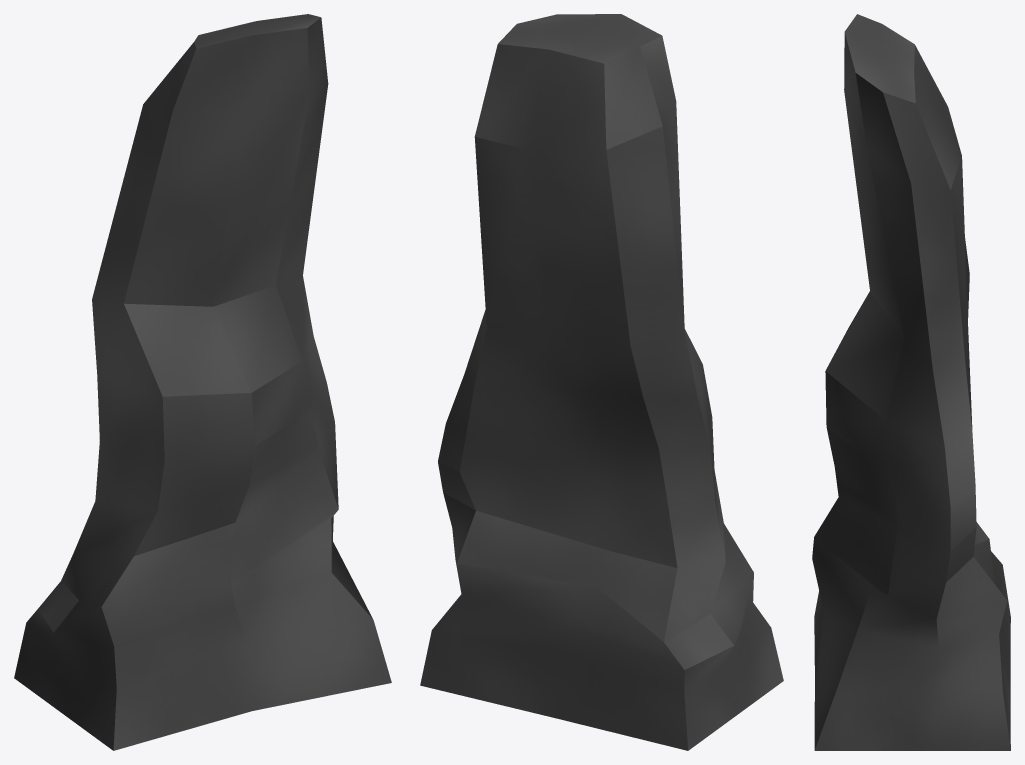
File: GAMEJAMPUFFER - LongStone 2.fbx
3 renders of one model, left to right at view 1: azimuth 30°, elevation 25°; view 2: azimuth 150°, elevation 25°; view 3: azimuth 270°, elevation 25°, orthographic. The views are drawn at different scales.
Parts seen in each view (by area): view 1: Cube.001; view 2: Cube.001; view 3: Cube.001.
Part boxes in pixels (left/top/right/bottom): Cube.001: left=14, top=14, right=391, bottom=750; Cube.001: left=420, top=14, right=783, bottom=750; Cube.001: left=812, top=14, right=1010, bottom=750.
Size of the model in its own units: 138 by 299 by 81.63.
Materials: 1 (1 with a texture image).
